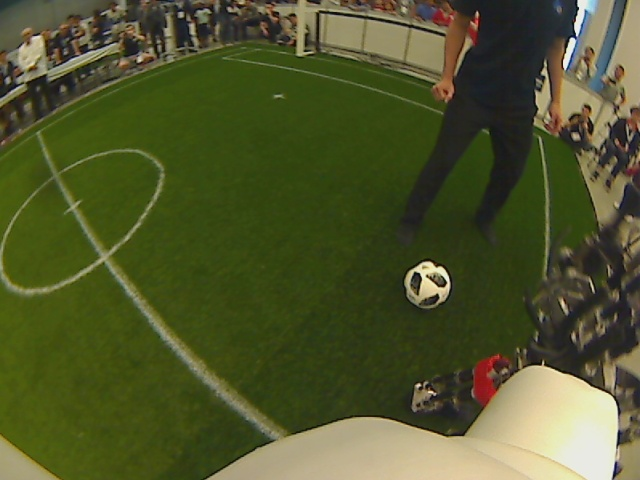ball: (402, 259, 453, 309)
